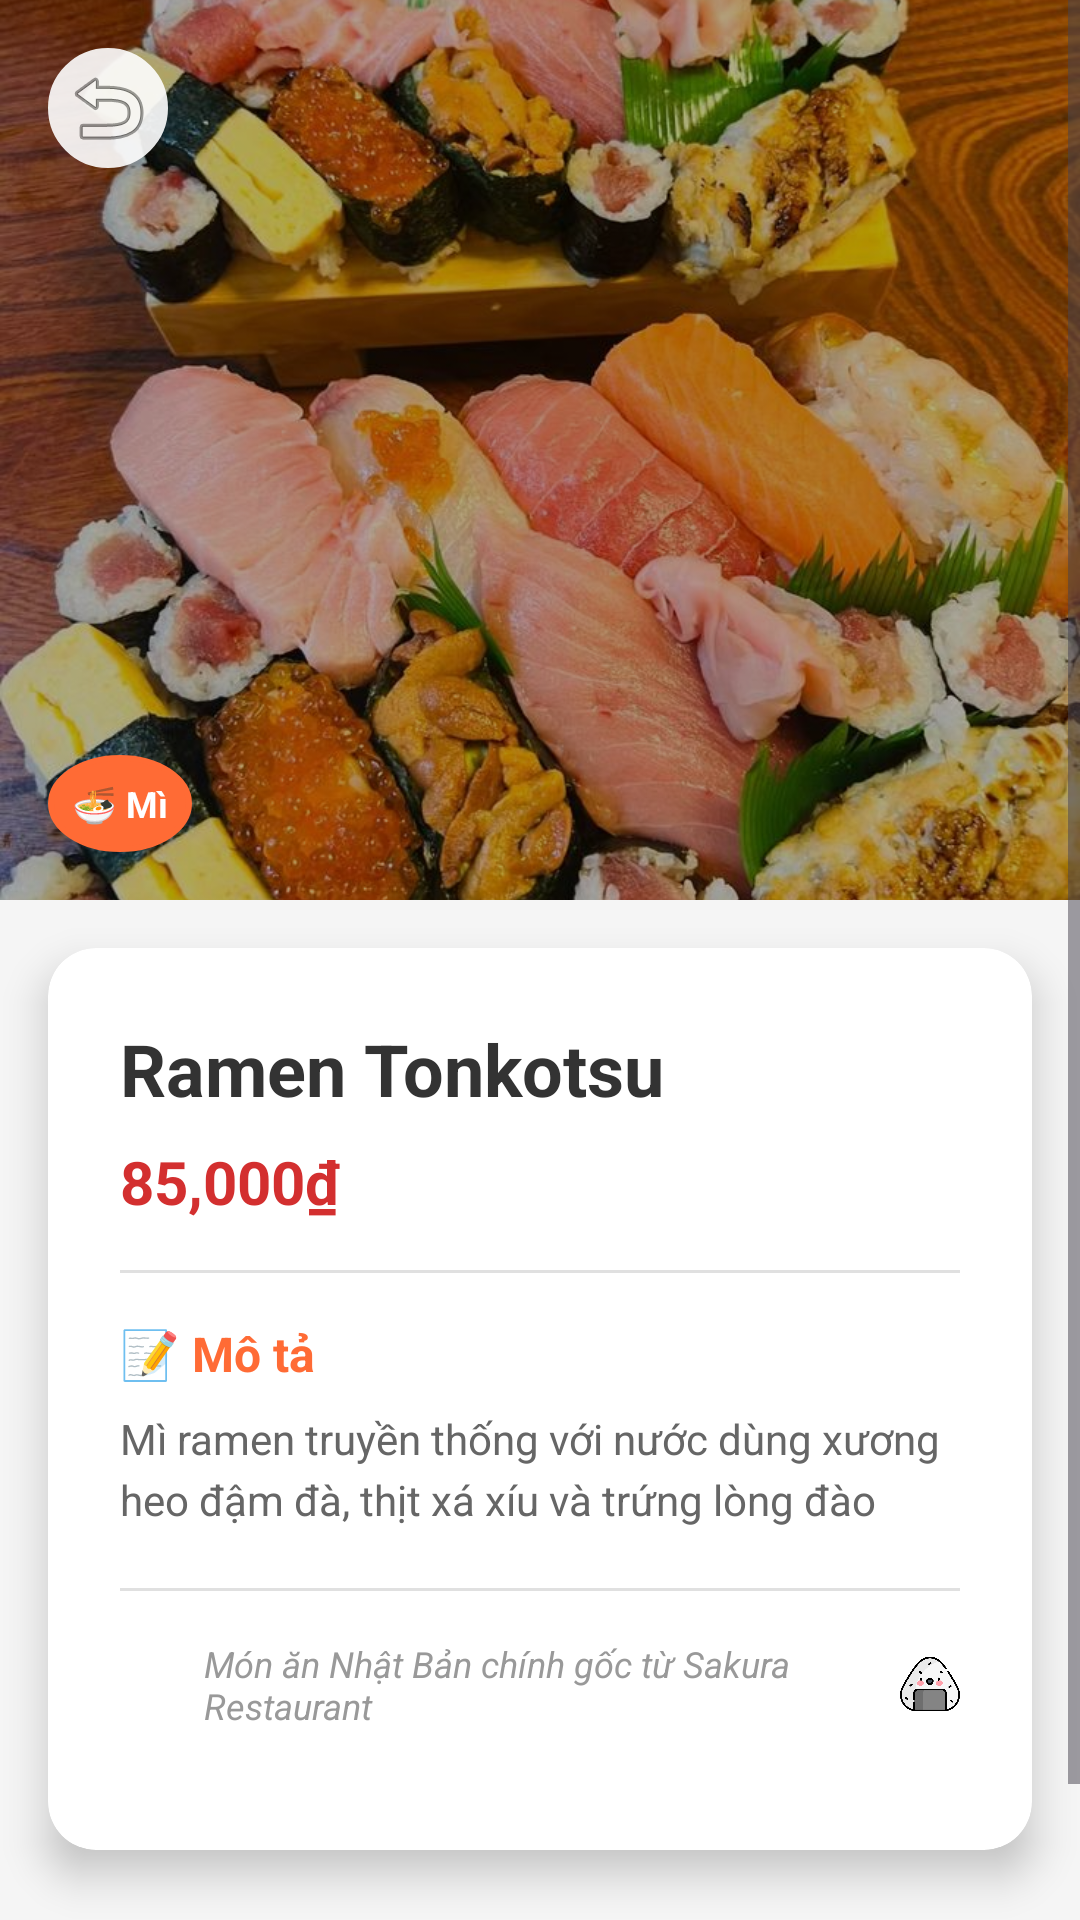

Screen size 1080×1920. Icon name, then its center in pixels as [x,y]:
onigiri: [930,1684]
revert: [108,108]
